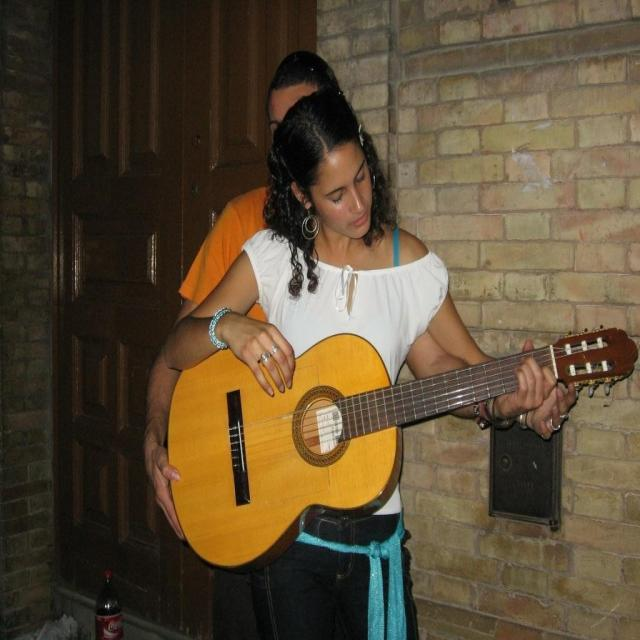guitar: (166, 326, 638, 572)
